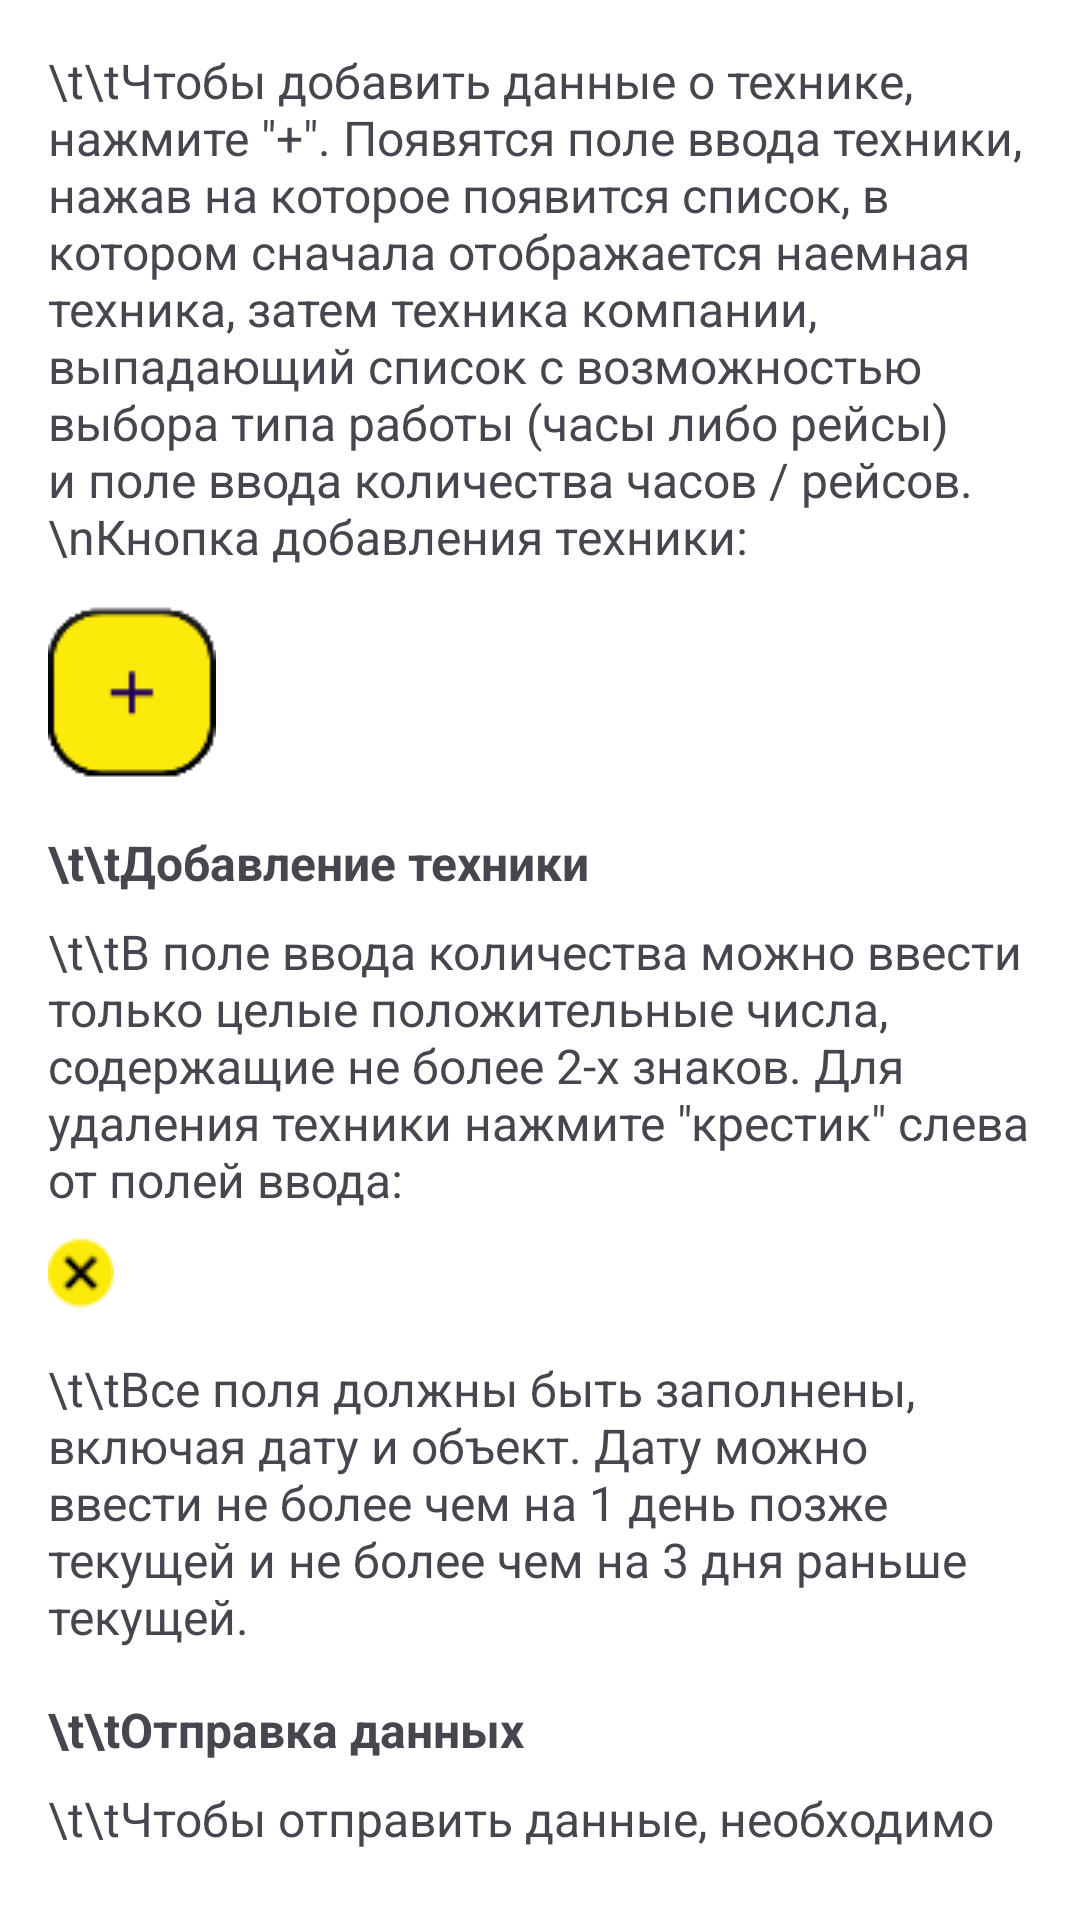

Icons on this 1080 × 1920 Android screen, each with its box as [x1,y1,x2,y2]:
add: [48,607,216,777]
delete: [48,1238,114,1308]
